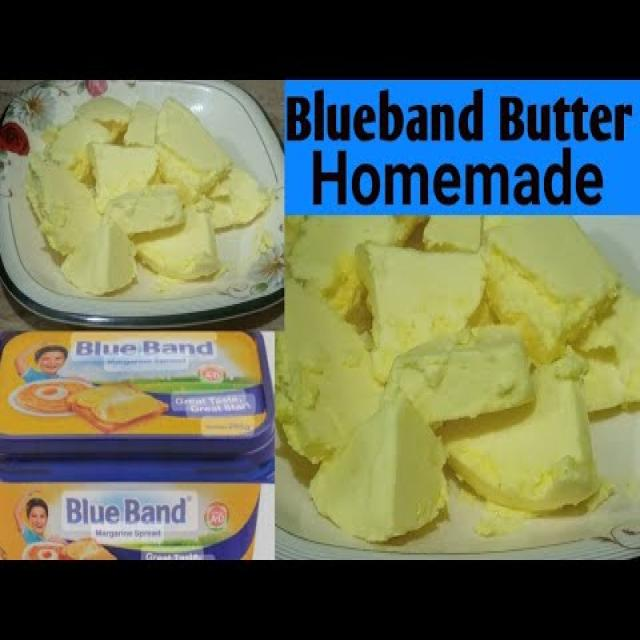butter: (0, 310, 275, 568)
